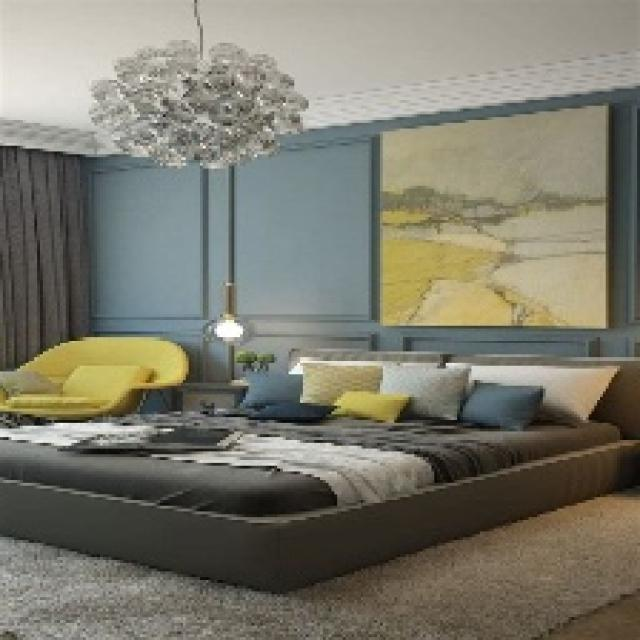Bed: (0, 346, 637, 591)
